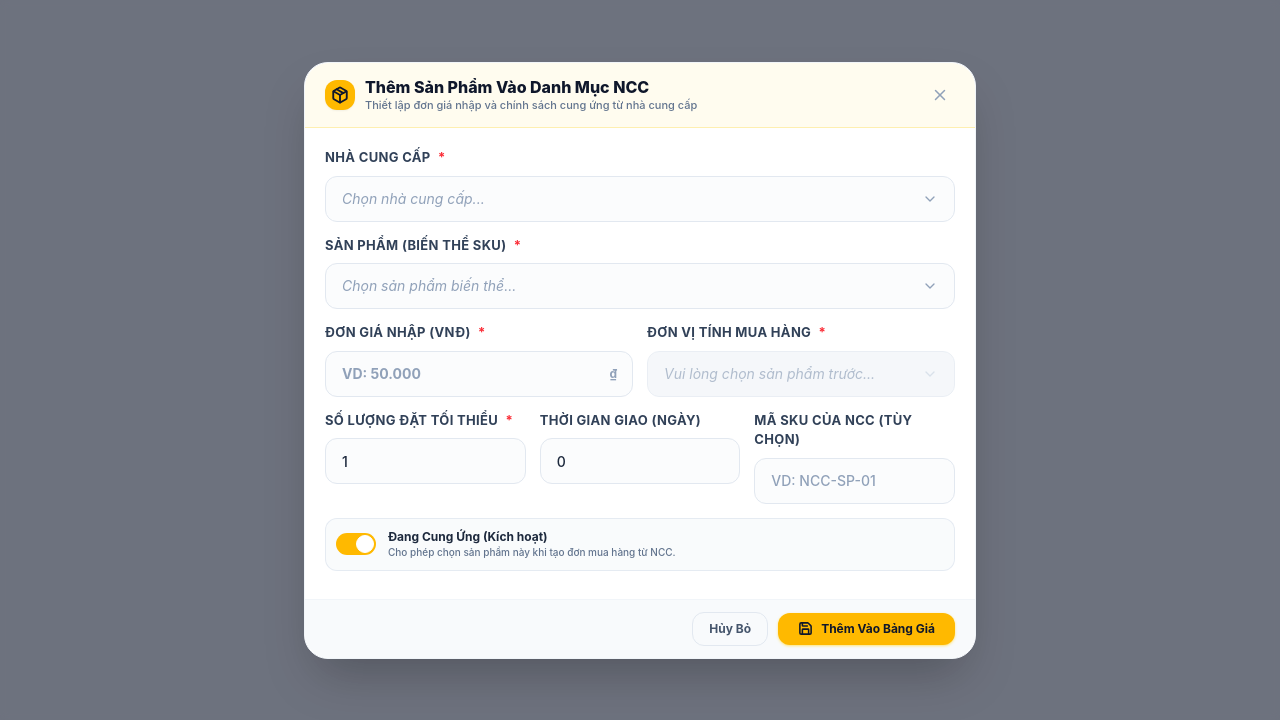
Test: ModalSupplierProduct Component › TC03 - Kiểm tra validation khi form thiếu dữ liệu bắt buộc
Expected: the text "Thêm Vào Bảng Giá" is shown, [821,620,935,636]
# Submit form khi chưa nhập gì
Step 1. Click the button "Thêm Vào Bảng Giá" → [867, 628], box [778,612,955,644]
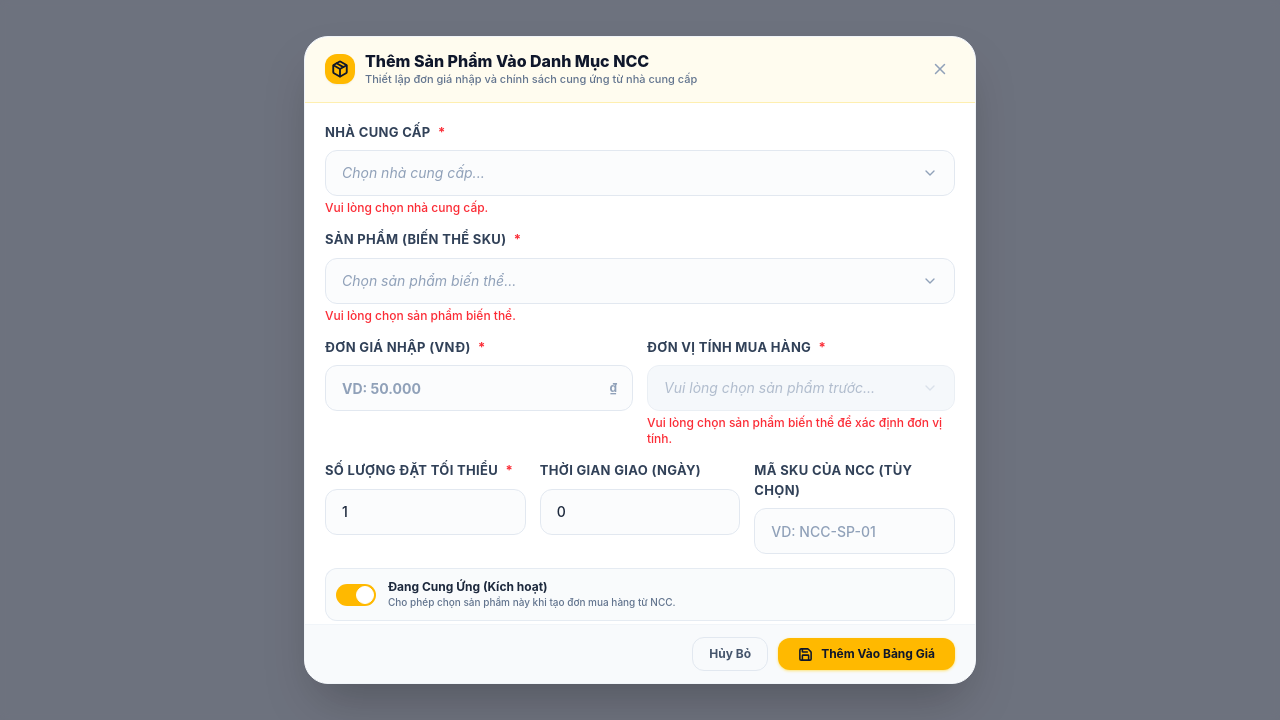
Now the text "Vui lòng chọn nhà cung cấp." is shown, box [325,200,488,215]
Now the text "Vui lòng chọn sản phẩm biến thể." is shown, box [325,308,516,322]
